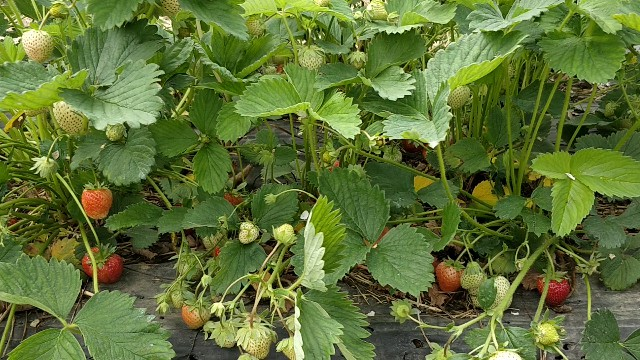strawberry: (79, 244, 124, 284), (536, 272, 571, 308)
